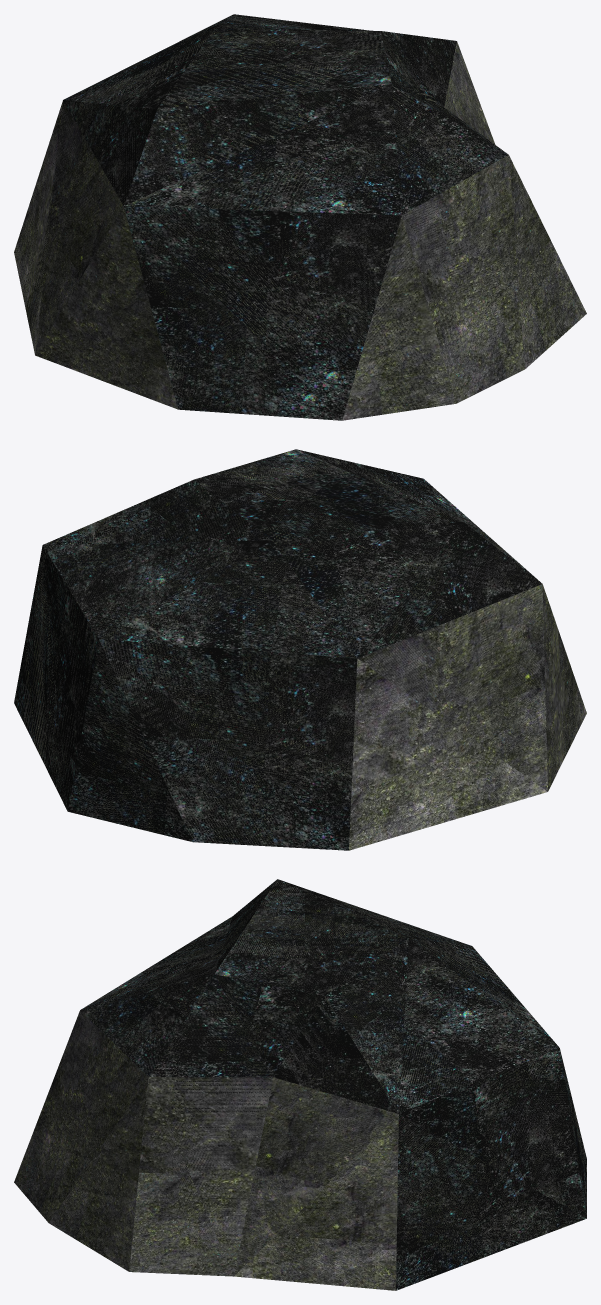
Rendered from stone3.dae.
3 renders of one model, top to bottom at view 1: azimuth 30°, elevation 25°; view 2: azimuth 150°, elevation 25°; view 3: azimuth 270°, elevation 25°, orthographic. The views are drawn at different scales.
Parts seen in each view (by area): view 1: SketchUp (×21); view 2: SketchUp (×15); view 3: SketchUp (×21).
Part boxes in pixels (x1,y1,x2,y2): SketchUp (×21): [14, 14, 586, 420]; SketchUp (×15): [14, 449, 586, 850]; SketchUp (×21): [14, 879, 586, 1290].
Size of the model in its own units: 34.05 by 35.21 by 15.35.
